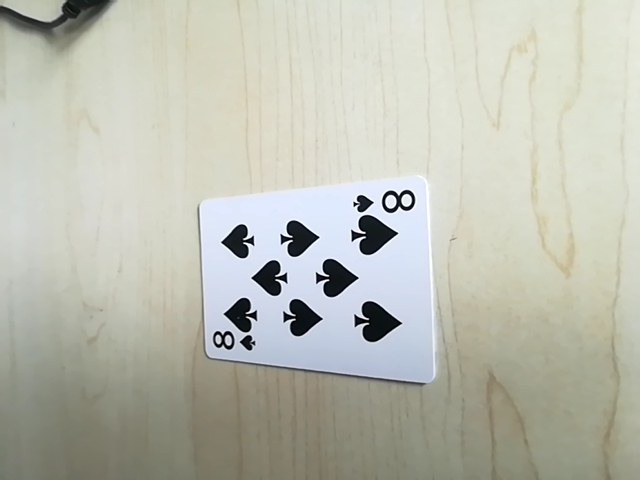ht 8: (352, 185, 420, 219), (205, 324, 259, 358)
